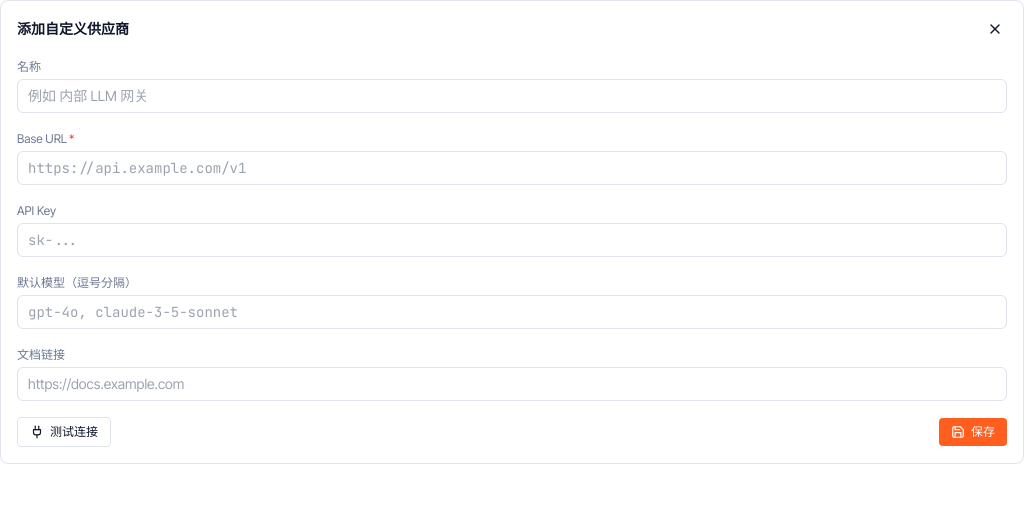
Test: CustomProviderForm › blocks save when Base URL is empty
Click the button "保存". click: (973, 432)
box: x1=939 y1=418 x2=1007 y2=446
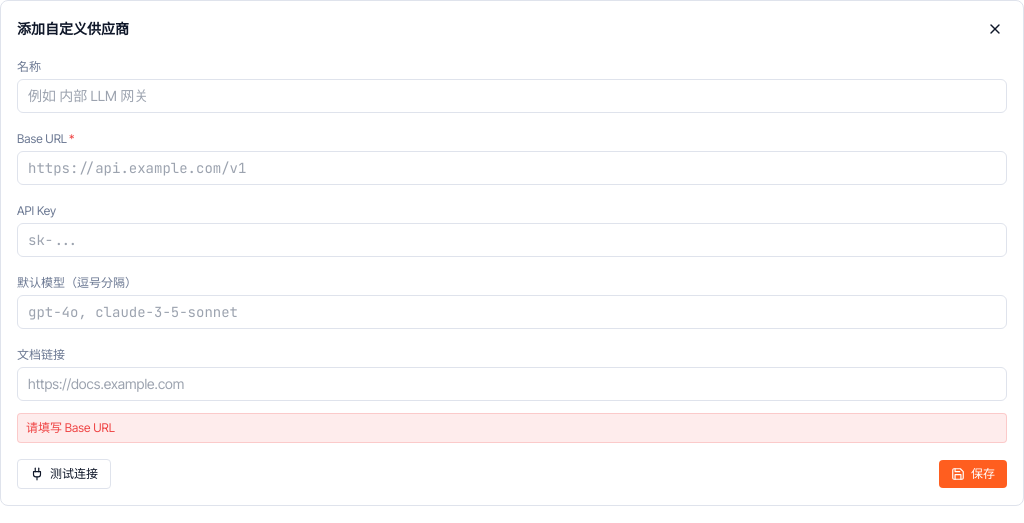
Result: the text "请填写 Base URL" is shown at x1=17 y1=413 x2=1007 y2=443
